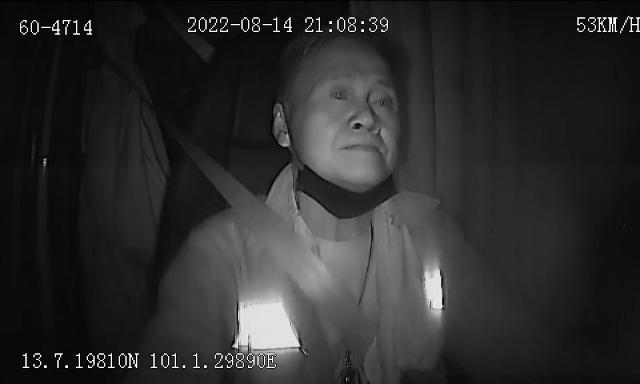SafeDriving: (366, 84, 396, 116), (325, 79, 356, 108)
Seatbelt: (191, 146, 379, 368)
